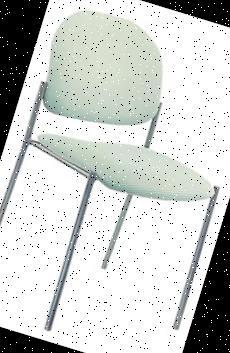Silla: (0, 3, 229, 352)
